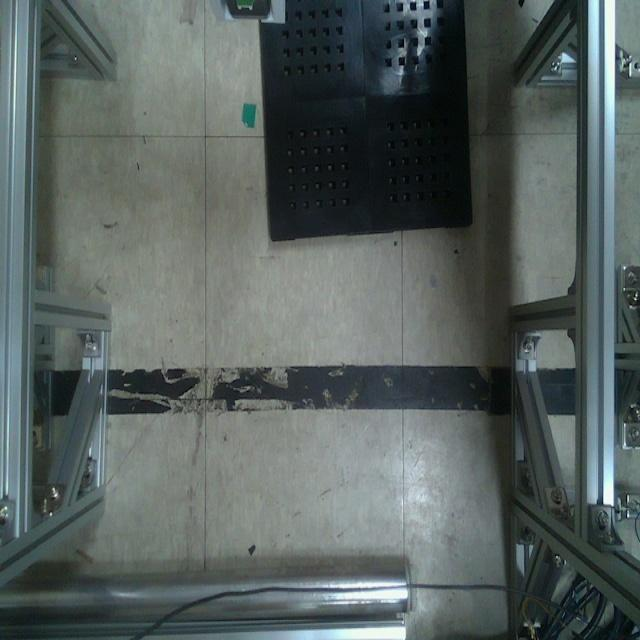pallet: (248, 0, 482, 245)
